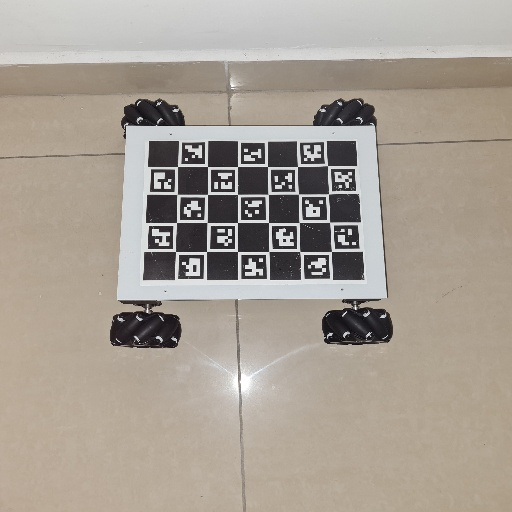Omniwheel: (109, 97, 394, 348)
